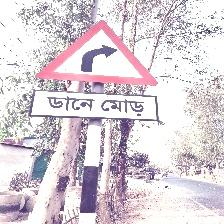Right-turn: (31, 20, 161, 124)
